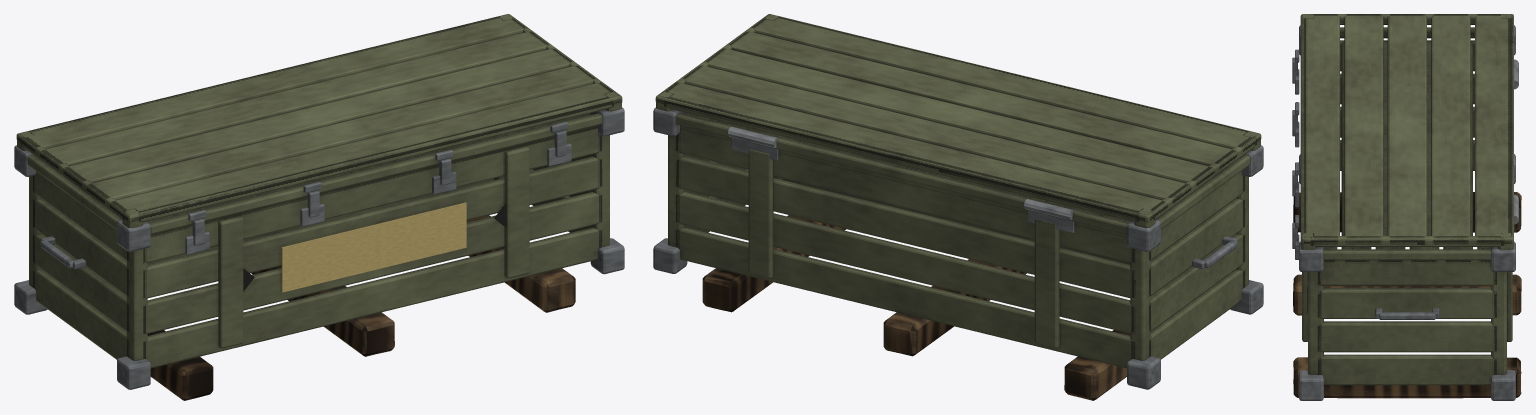
Rendered from poi_weapon_box.glb.
3 views of the same model, side by side, from view 1: azimuth 30°, elevation 25°; view 2: azimuth 150°, elevation 25°; view 3: azimuth 270°, elevation 25° (orthographic). The views are drawn at different scales.
Visible parts, largest first — view 1: poi_weapon_box; view 2: poi_weapon_box; view 3: poi_weapon_box.
Part boxes in pixels (box(x1,y1,x2,y2)): poi_weapon_box: box(14, 14, 624, 400); poi_weapon_box: box(653, 14, 1263, 400); poi_weapon_box: box(1292, 14, 1521, 400).
Bounding box in the file's own units: 1.61 × 0.571 × 0.6456.
5 materials, 5 textured.
